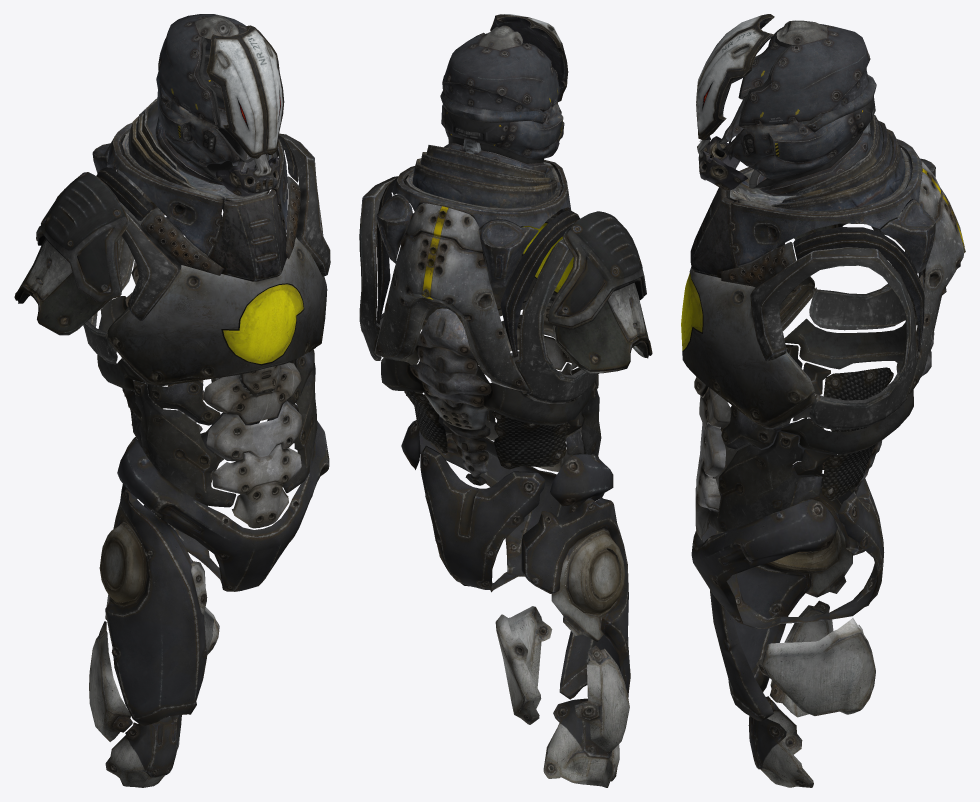
The model's file is BrokenSimplygonManTorsoHalf.obj.
The picture shows the model from 3 angles, left to right: view 1: azimuth 30°, elevation 25°; view 2: azimuth 150°, elevation 25°; view 3: azimuth 270°, elevation 25°; orthographic projection. The views are drawn at different scales.
Parts seen in each view (by area): view 1: WavefrontRoot_dman_middle, WavefrontRoot_dman_legs, WavefrontRoot_dman_uper, WavefrontRoot_dman_arms, WavefrontRoot_helm_dman, WavefrontRoot_dman_visor; view 2: WavefrontRoot_dman_legs, WavefrontRoot_dman_uper, WavefrontRoot_dman_middle, WavefrontRoot_helm_dman, WavefrontRoot_dman_arms, WavefrontRoot_dman_visor; view 3: WavefrontRoot_dman_uper, WavefrontRoot_dman_middle, WavefrontRoot_dman_legs, WavefrontRoot_helm_dman, WavefrontRoot_dman_visor.
Part boxes in pixels (x1=…): WavefrontRoot_dman_middle: x1=97, y1=217, x2=327, y2=528; WavefrontRoot_dman_legs: x1=89, y1=400, x2=329, y2=787; WavefrontRoot_dman_uper: x1=83, y1=98, x2=330, y2=362; WavefrontRoot_dman_arms: x1=14, y1=172, x2=129, y2=335; WavefrontRoot_helm_dman: x1=155, y1=14, x2=267, y2=185; WavefrontRoot_dman_visor: x1=206, y1=25, x2=284, y2=196; WavefrontRoot_dman_legs: x1=401, y1=417, x2=630, y2=787; WavefrontRoot_dman_uper: x1=359, y1=145, x2=596, y2=402; WavefrontRoot_dman_middle: x1=381, y1=217, x2=601, y2=485; WavefrontRoot_helm_dman: x1=440, y1=25, x2=563, y2=173; WavefrontRoot_dman_arms: x1=547, y1=211, x2=652, y2=373; WavefrontRoot_dman_visor: x1=490, y1=14, x2=568, y2=158; WavefrontRoot_dman_uper: x1=690, y1=115, x2=965, y2=429; WavefrontRoot_dman_middle: x1=681, y1=239, x2=934, y2=539; WavefrontRoot_dman_legs: x1=691, y1=418, x2=884, y2=787; WavefrontRoot_helm_dman: x1=716, y1=20, x2=876, y2=195; WavefrontRoot_dman_visor: x1=696, y1=14, x2=774, y2=190.
Size of the model in its own units: 0.5807 by 1.51 by 0.4864.
6 materials, 6 textured.
